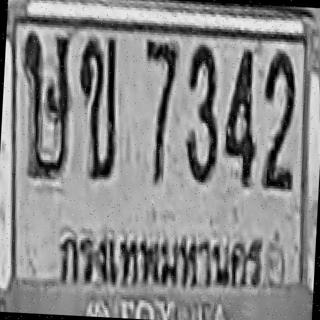A02: (75, 35, 122, 179)
A39: (16, 30, 75, 181)
N02: (260, 50, 298, 190)
N03: (182, 43, 222, 184)
N04: (222, 46, 260, 185)
N07: (139, 40, 180, 186)
P04: (54, 220, 274, 302)
